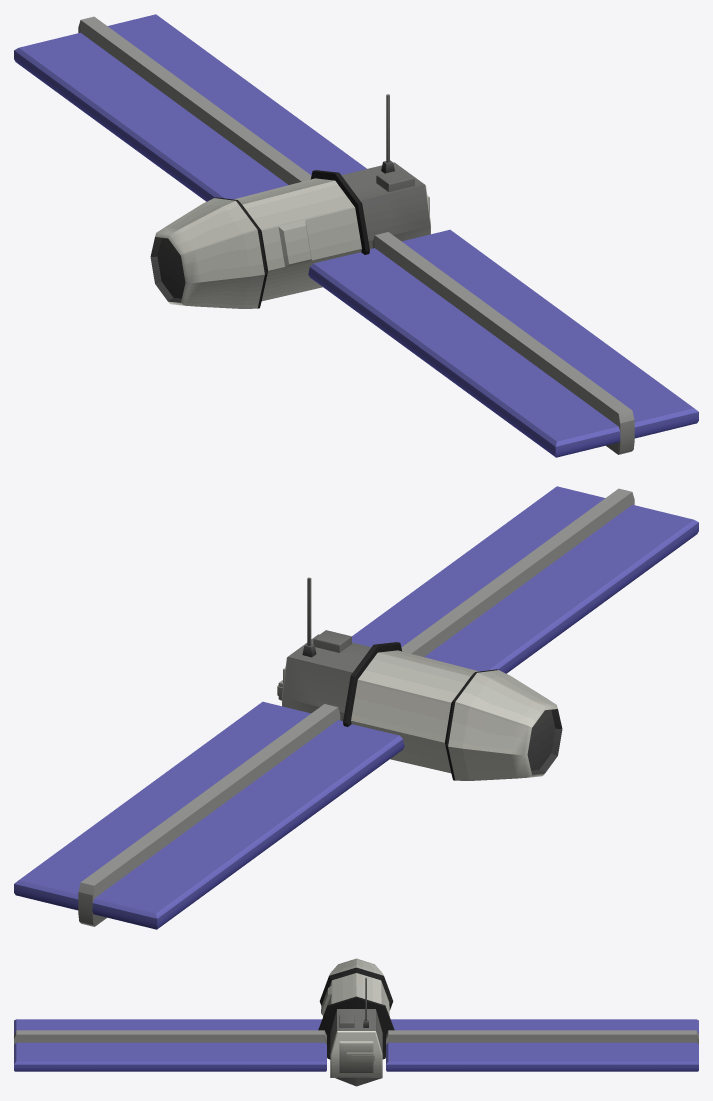
Rendered from SM_Satellite.fbx.
3 views of the same model, one above another, from view 1: azimuth 30°, elevation 25°; view 2: azimuth 150°, elevation 25°; view 3: azimuth 270°, elevation 25° (orthographic). The views are drawn at different scales.
Visible parts, largest first — view 1: SM_Satellite; view 2: SM_Satellite; view 3: SM_Satellite.
Boxes of the visible parts, x1=… form: SM_Satellite: x1=14, y1=14, x2=698, y2=457; SM_Satellite: x1=14, y1=486, x2=698, y2=929; SM_Satellite: x1=14, y1=958, x2=698, y2=1086.
Bounding box in the file's own units: 7.79 × 4.85 × 28.08.
Materials: 1 (1 with a texture image).
